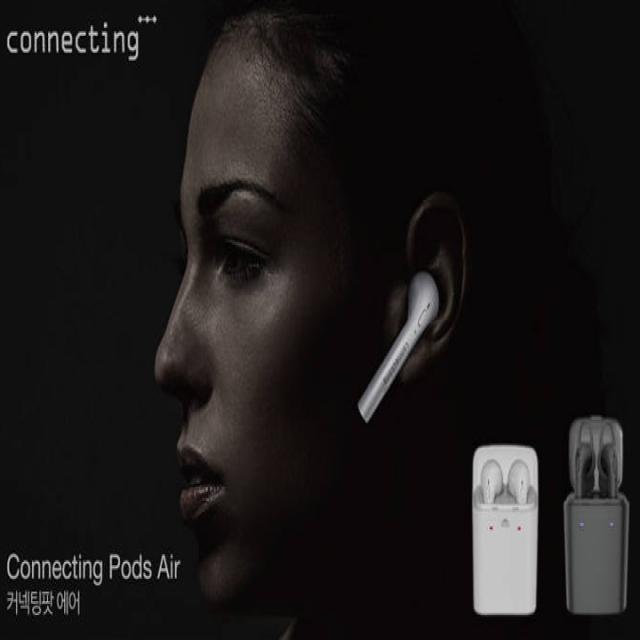earphone: (317, 229, 468, 436), (454, 451, 551, 634), (559, 399, 636, 589)
